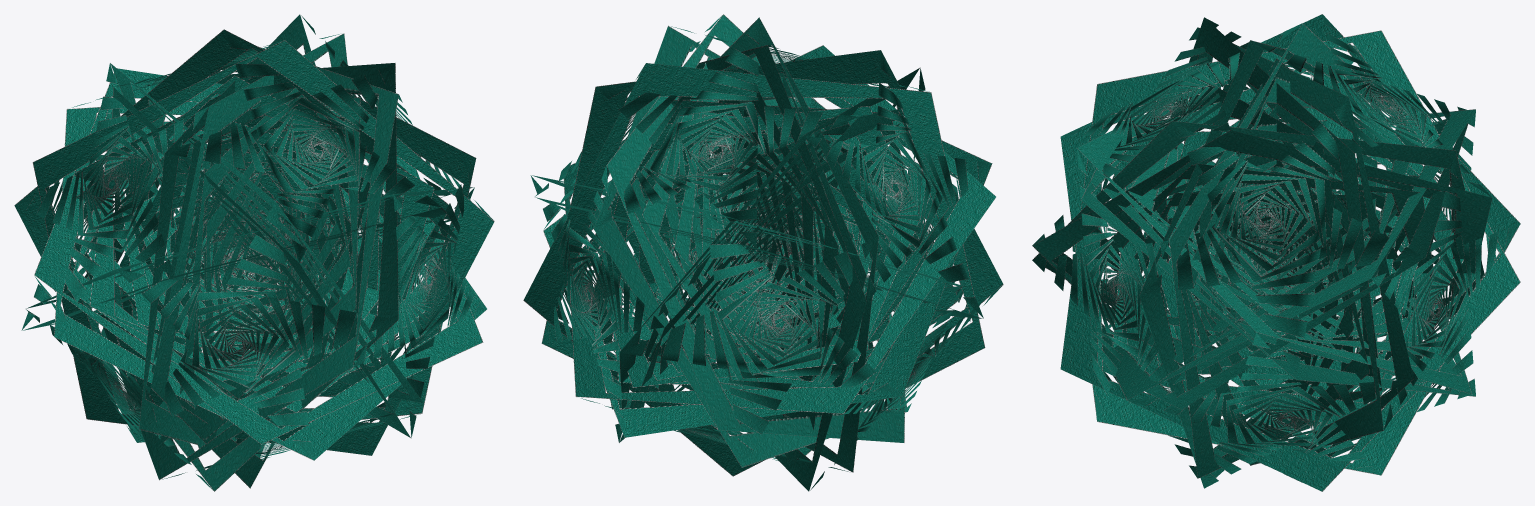
File: InvertedSnubDodecadodecahedron16.gltf
3 views of the same model, side by side, from view 1: azimuth 30°, elevation 25°; view 2: azimuth 150°, elevation 25°; view 3: azimuth 270°, elevation 25° (orthographic).
Visible parts, largest first — view 1: InvertedSnubDodecadodecahedron16; view 2: InvertedSnubDodecadodecahedron16; view 3: InvertedSnubDodecadodecahedron16.
Boxes of the visible parts, x1,y1,x2,y2 form: InvertedSnubDodecadodecahedron16: (14, 14, 494, 491); InvertedSnubDodecadodecahedron16: (523, 14, 1003, 491); InvertedSnubDodecadodecahedron16: (1032, 14, 1520, 491).
Size of the model in its own units: 1.69 by 1.69 by 1.69.
Materials: 1 (1 with a texture image).
